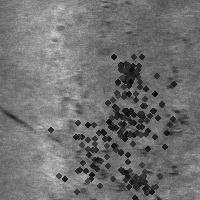rolled-in_scale: (70, 48, 190, 168), (45, 87, 165, 200), (49, 89, 136, 193), (160, 66, 192, 175), (99, 44, 151, 96), (116, 154, 164, 200), (97, 1, 137, 44)
